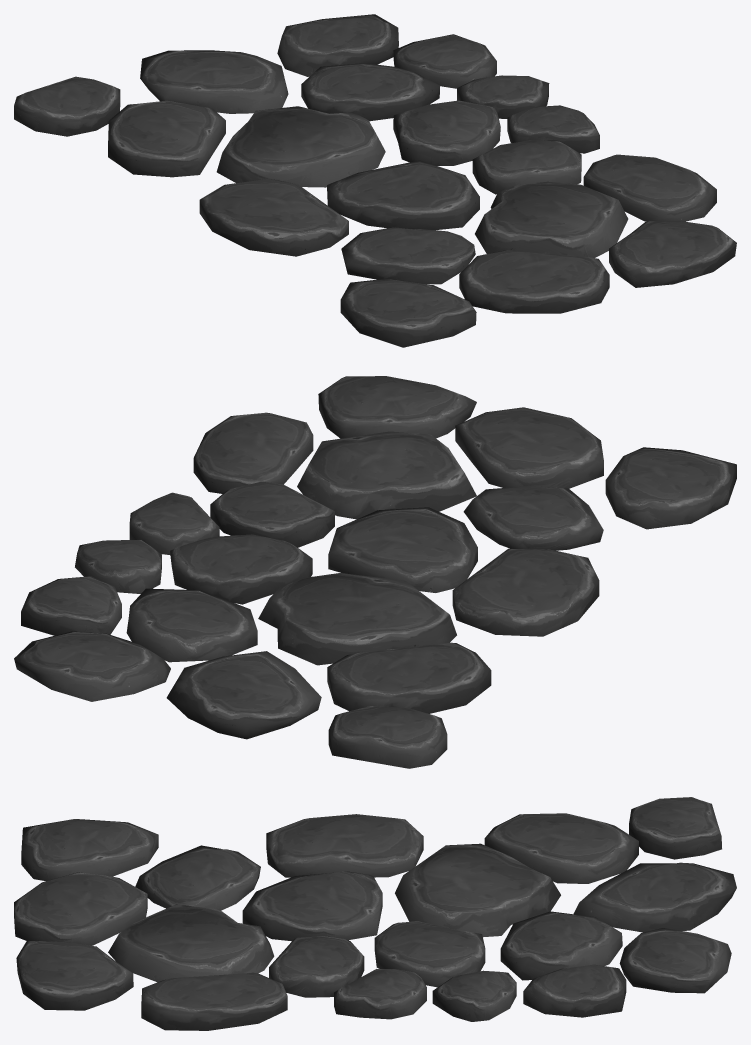
Rendered from SM_PROP_pathway_stone_battle.fbx.
3 renders of one model, top to bottom at view 1: azimuth 30°, elevation 25°; view 2: azimuth 150°, elevation 25°; view 3: azimuth 270°, elevation 25°, orthographic. The views are drawn at different scales.
Parts seen in each view (by area): view 1: SM_PROP_pathway_stone_battle; view 2: SM_PROP_pathway_stone_battle; view 3: SM_PROP_pathway_stone_battle.
Part boxes in pixels (left/top/right/bottom): SM_PROP_pathway_stone_battle: left=14, top=14, right=736, bottom=347; SM_PROP_pathway_stone_battle: left=14, top=376, right=736, bottom=768; SM_PROP_pathway_stone_battle: left=14, top=797, right=736, bottom=1030.
Bounding box in the file's own units: 145 × 7.2 × 202.
